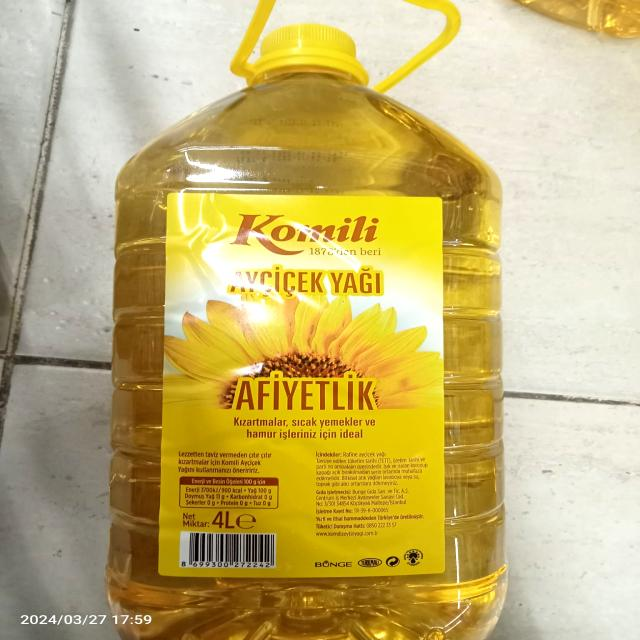olive oil: (101, 88, 517, 640)
